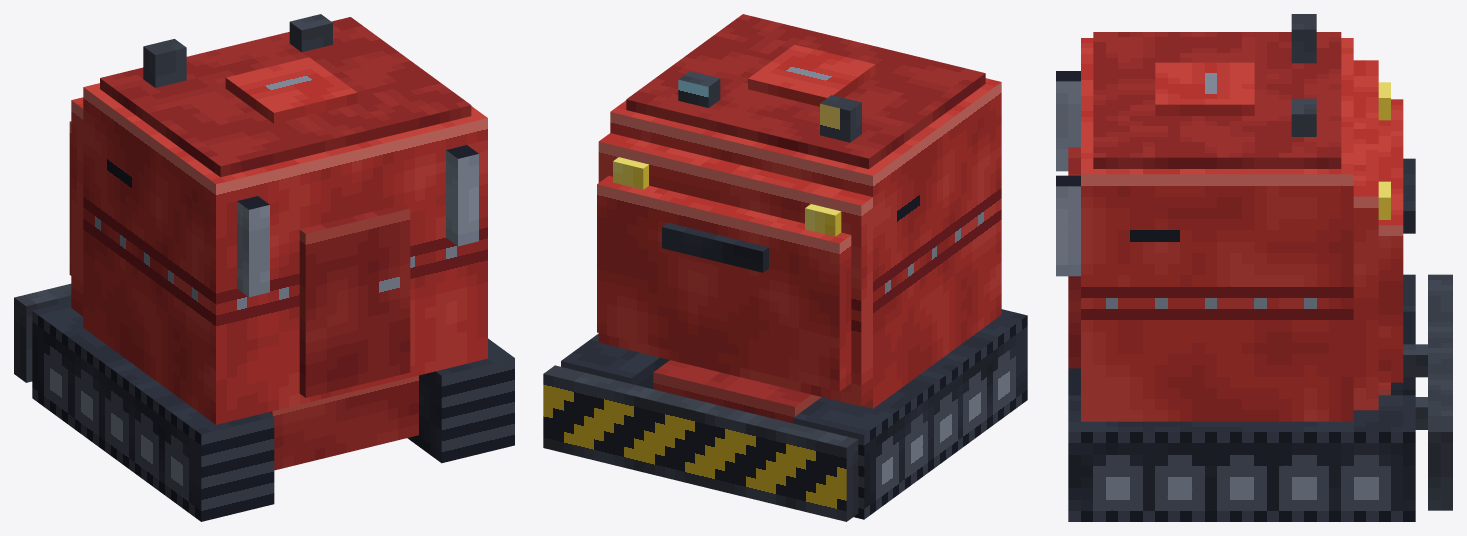
The model's file is blocker_red.glb.
3 views of the same model, side by side, from view 1: azimuth 30°, elevation 25°; view 2: azimuth 150°, elevation 25°; view 3: azimuth 270°, elevation 25° (orthographic). The views are drawn at different scales.
Parts seen in each view (by area): view 1: hull, chassis; view 2: hull, chassis; view 3: hull, chassis.
Part boxes in pixels (x1,y1,x2,y2): hull: (14, 14, 487, 470); chassis: (32, 301, 514, 521); hull: (543, 14, 1001, 521); chassis: (561, 309, 1027, 519); hull: (1056, 14, 1452, 510); chassis: (1068, 274, 1415, 521).
Bounding box in the file's own units: 0.9375 × 1.06 × 1.
1 material, 1 textured.
